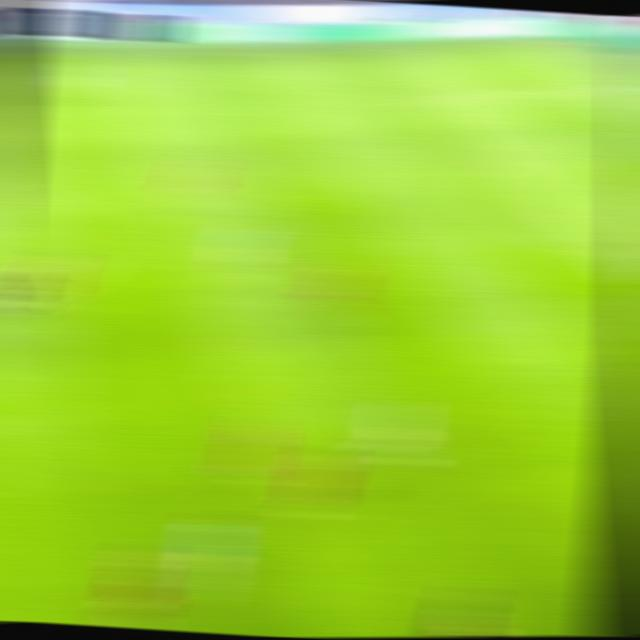bigarea_top_inner: (409, 88, 454, 113)
bigarea_top_outter: (611, 77, 640, 95)
bottom_arc_area_intersection: (578, 241, 623, 266)
corner: (529, 31, 575, 48)
smallarea_top_inner: (618, 128, 640, 150)
top_arc_area_intersection: (474, 148, 519, 171)
